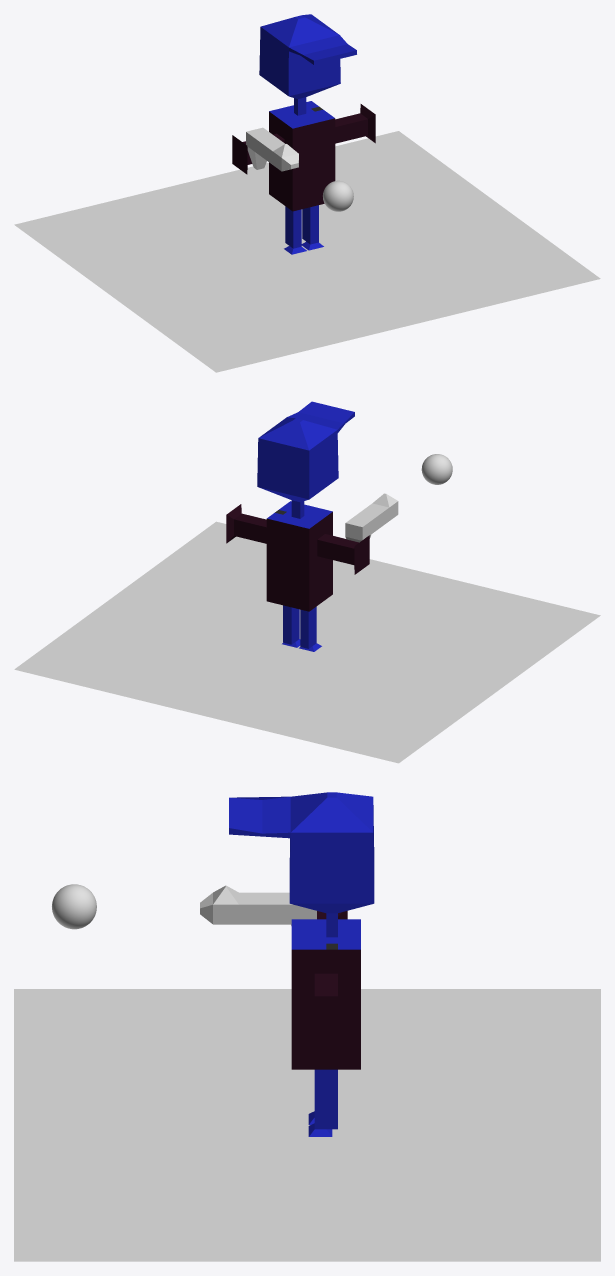
File: человечек.FBX
3 views of the same model, one above another, from view 1: azimuth 30°, elevation 25°; view 2: azimuth 150°, elevation 25°; view 3: azimuth 270°, elevation 25° (orthographic). The views are drawn at different scales.
Parts seen in each view (by area): view 1: Plane001, Box001, Box002, Sphere001; view 2: Plane001, Box001, Box002, Sphere001; view 3: Plane001, Box001, Box002, Sphere001.
Part boxes in pixels (x1=…): Plane001: x1=14, y1=131, x2=600, y2=372; Box001: x1=232, y1=14, x2=375, y2=254; Box002: x1=246, y1=127, x2=298, y2=171; Sphere001: x1=323, y1=180, x2=353, y2=211; Plane001: x1=14, y1=521, x2=600, y2=763; Box001: x1=226, y1=401, x2=369, y2=651; Box002: x1=345, y1=493, x2=398, y2=542; Sphere001: x1=421, y1=454, x2=452, y2=484; Plane001: x1=14, y1=989, x2=600, y2=1261; Box001: x1=229, y1=792, x2=374, y2=1136; Box002: x1=200, y1=885, x2=316, y2=925; Sphere001: x1=52, y1=884, x2=96, y2=929.
Size of the model in its own units: 1891 by 1072 by 1721.
